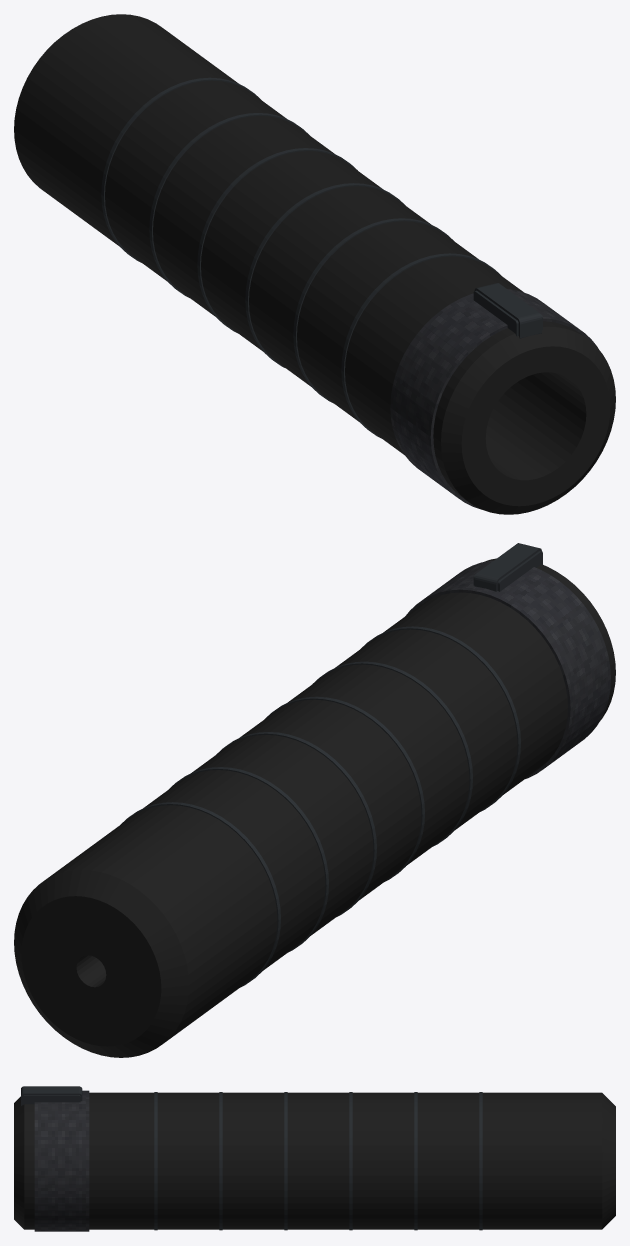
Rendered from supressor_556.glb.
The picture shows the model from 3 angles, top to bottom: view 1: azimuth 30°, elevation 25°; view 2: azimuth 150°, elevation 25°; view 3: azimuth 270°, elevation 25°; orthographic projection. The views are drawn at different scales.
Visible parts, largest first — view 1: supressor_556_aluminio_preto, supressor_556_recartilhado, supressor_556_aco_oxidado; view 2: supressor_556_aluminio_preto, supressor_556_recartilhado, supressor_556_aco_oxidado; view 3: supressor_556_aluminio_preto, supressor_556_recartilhado, supressor_556_aco_oxidado.
Part boxes in pixels (<box>): supressor_556_aluminio_preto: <box>14,14,615,514</box>; supressor_556_recartilhado: <box>390,289,598,509</box>; supressor_556_aco_oxidado: <box>101,77,542,438</box>; supressor_556_aluminio_preto: <box>14,558,615,1057</box>; supressor_556_recartilhado: <box>406,560,610,778</box>; supressor_556_aco_oxidado: <box>120,543,542,987</box>; supressor_556_aluminio_preto: <box>14,1092,615,1229</box>; supressor_556_recartilhado: <box>34,1090,89,1231</box>; supressor_556_aco_oxidado: <box>21,1086,482,1230</box>.
Bounding box in the file's own units: 0.0412 × 0.0436 × 0.176.
Materials: 3 (1 with a texture image).
